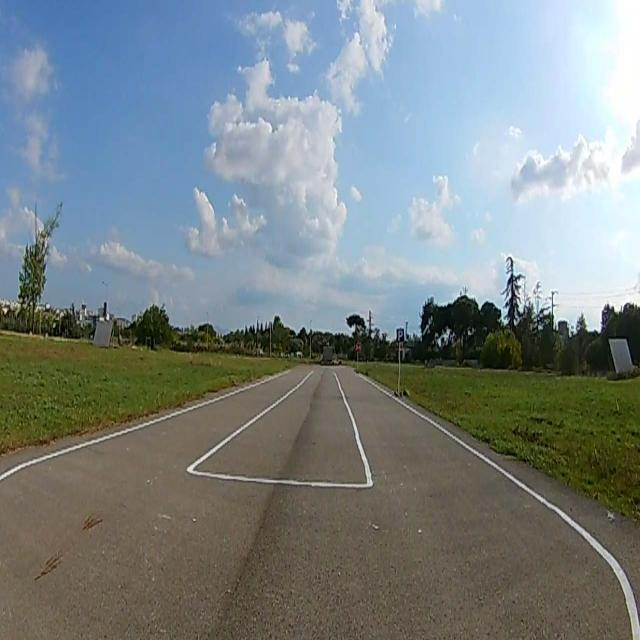park: (398, 329, 404, 342)
